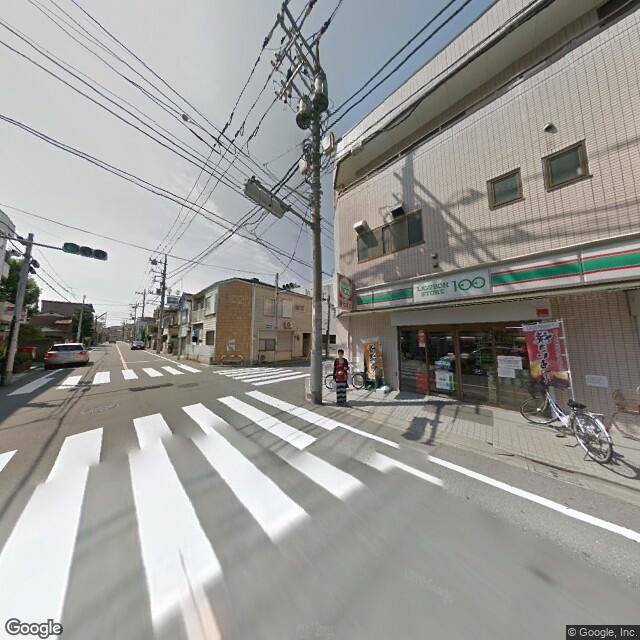lawson: (356, 234, 638, 317), (335, 270, 354, 303)
